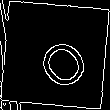O_NW: (22, 21, 88, 89)
